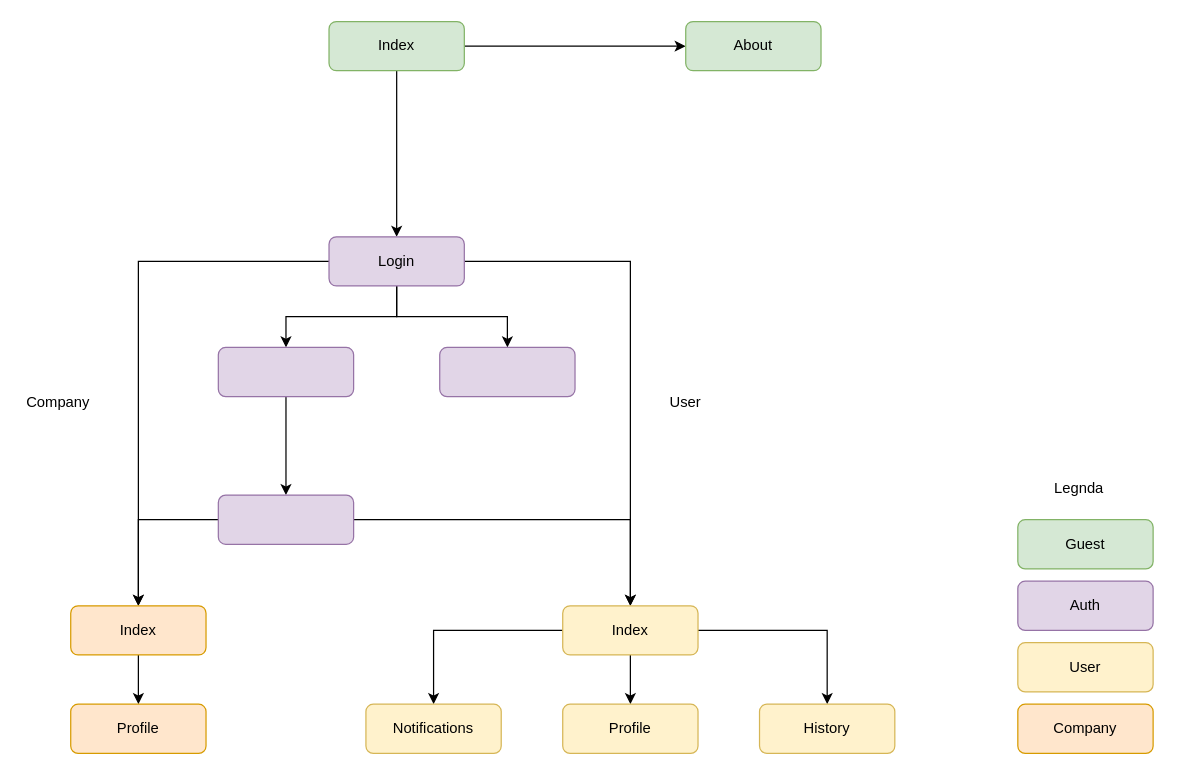
This 1198x775 diagram has some shape labels left out. Here are the shapes that lost their labels. From the top down, the centre of each, then its label:
(x=285, y=371): Register
(x=506, y=371): Reset-password
(x=285, y=519): Role-choice
